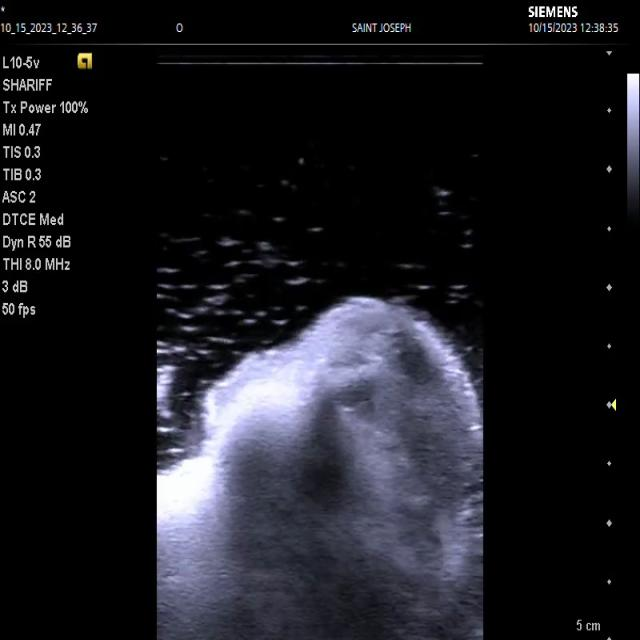tissue: (205, 297, 489, 640)
